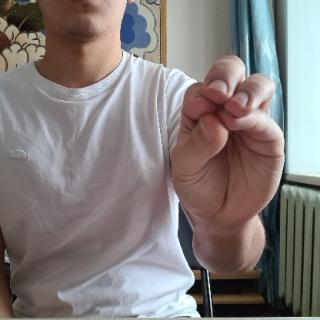HA: (164, 51, 294, 243)
